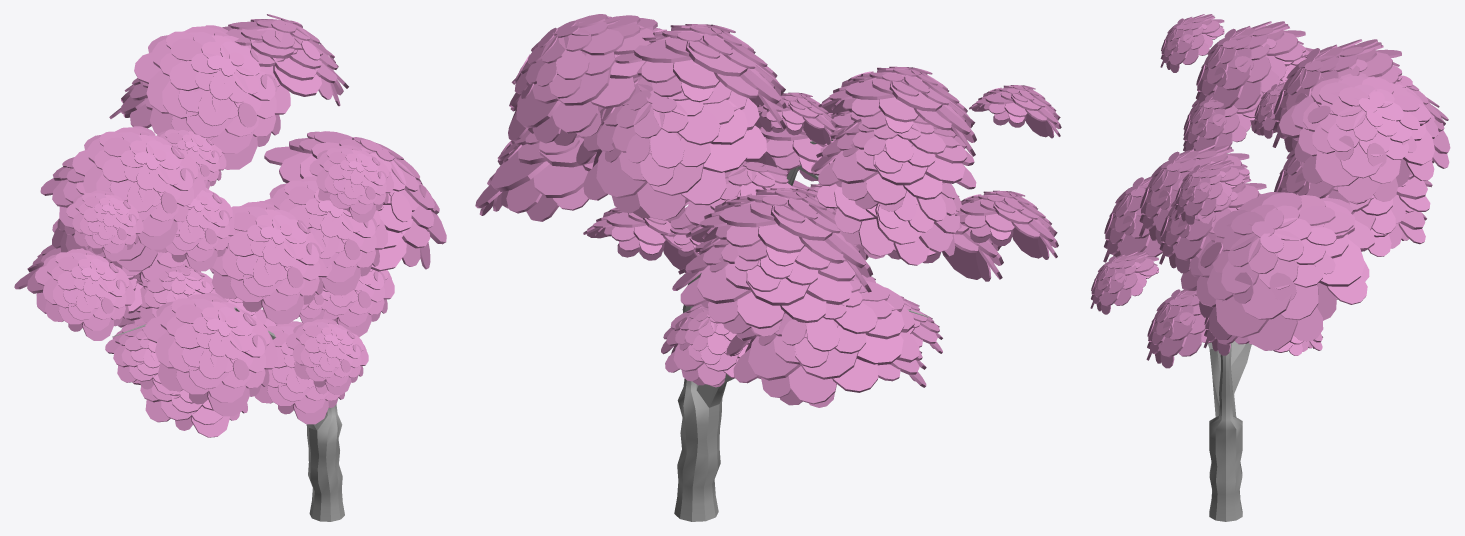
File: sakura tree.fbx
3 views of the same model, side by side, from view 1: azimuth 30°, elevation 25°; view 2: azimuth 150°, elevation 25°; view 3: azimuth 270°, elevation 25° (orthographic). The views are drawn at different scales.
Parts seen in each view (by area): view 1: sakura_tree:sakura_tree:sakura_tree:pCube77, sakura_tree:pCube79, sakura_tree:pCube72, sakura_tree:pCube66, sakura_tree:sakura_tree:sakura_tree:pCube81, sakura_tree:pCube76, sakura_tree:pCube82, sakura_tree:sakura_tree:sakura_tree:pCube80, sakura_tree:pCube80, sakura_tree:pCube73, sakura_tree:pCube67, sakura_tree:pCube69 (+13 smaller); view 2: sakura_tree:sakura_tree:sakura_tree:pCube79, sakura_tree:sakura_tree:sakura_tree:pCube78, sakura_tree:sakura_tree:sakura_tree:pCube80, sakura_tree:pCube78, sakura_tree:pCube74, sakura_tree:pCube77, sakura_tree:sakura_tree:sakura_tree:pCube77, sakura_tree:pCube75, sakura_tree:pCube66, sakura_tree:sakura_tree:sakura_tree:pCube81, sakura_tree:sakura_tree:sakura_tree:than_cay2, sakura_tree:pCube76 (+9 smaller); view 3: sakura_tree:sakura_tree:sakura_tree:pCube81, sakura_tree:sakura_tree:sakura_tree:pCube80, sakura_tree:pCube66, sakura_tree:sakura_tree:sakura_tree:than_cay2, sakura_tree:sakura_tree:sakura_tree:pCube77, sakura_tree:pCube72, sakura_tree:pCube81, sakura_tree:pCube82, sakura_tree:pCube80, sakura_tree:pCube69, sakura_tree:pCube73, sakura_tree:pCube79 (+8 smaller).
Boxes of the visible parts, box(x1,y1,x2,y2) form: sakura_tree:sakura_tree:sakura_tree:pCube77: box(134, 25, 290, 169); sakura_tree:pCube79: box(144, 293, 277, 416); sakura_tree:pCube72: box(211, 200, 331, 324); sakura_tree:pCube66: box(72, 126, 205, 249); sakura_tree:sakura_tree:sakura_tree:pCube81: box(264, 131, 446, 271); sakura_tree:pCube76: box(35, 248, 135, 340); sakura_tree:pCube82: box(265, 176, 387, 295); sakura_tree:sakura_tree:sakura_tree:pCube80: box(222, 14, 348, 106); sakura_tree:pCube80: box(309, 144, 393, 222); sakura_tree:pCube73: box(286, 318, 368, 394); sakura_tree:pCube67: box(66, 190, 143, 261); sakura_tree:pCube69: box(154, 187, 234, 271); sakura_tree:sakura_tree:sakura_tree:pCube79: box(576, 76, 766, 220); sakura_tree:sakura_tree:sakura_tree:pCube78: box(726, 278, 919, 407); sakura_tree:sakura_tree:sakura_tree:pCube80: box(508, 14, 661, 145); sakura_tree:pCube78: box(672, 237, 860, 336); sakura_tree:pCube74: box(811, 116, 976, 211); sakura_tree:pCube77: box(685, 188, 872, 292); sakura_tree:sakura_tree:sakura_tree:pCube77: box(615, 24, 786, 131); sakura_tree:pCube75: box(811, 145, 961, 265); sakura_tree:pCube66: box(818, 66, 976, 156); sakura_tree:sakura_tree:sakura_tree:pCube81: box(475, 130, 596, 221); sakura_tree:sakura_tree:sakura_tree:than_cay2: box(674, 138, 928, 521); sakura_tree:pCube76: box(954, 190, 1058, 259); sakura_tree:sakura_tree:sakura_tree:pCube81: box(1180, 192, 1374, 350); sakura_tree:sakura_tree:sakura_tree:pCube80: box(1279, 73, 1438, 202); sakura_tree:pCube66: box(1196, 21, 1305, 109); sakura_tree:sakura_tree:sakura_tree:than_cay2: box(1208, 153, 1251, 521); sakura_tree:sakura_tree:sakura_tree:pCube77: box(1272, 39, 1402, 154); sakura_tree:pCube72: box(1139, 144, 1249, 244); sakura_tree:pCube81: box(1146, 289, 1211, 368); sakura_tree:pCube82: box(1159, 174, 1266, 273); sakura_tree:pCube80: box(1175, 160, 1244, 224); sakura_tree:pCube69: box(1183, 95, 1259, 151); sakura_tree:pCube73: box(1090, 251, 1158, 314); sakura_tree:pCube79: box(1103, 176, 1162, 262).
Bounding box in the file's own units: 6.05 × 6.13 × 4.57.
